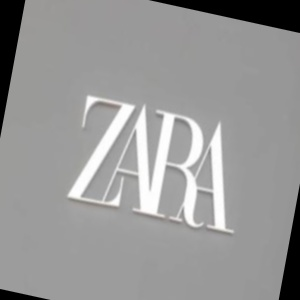zara: (213, 70, 300, 183)
